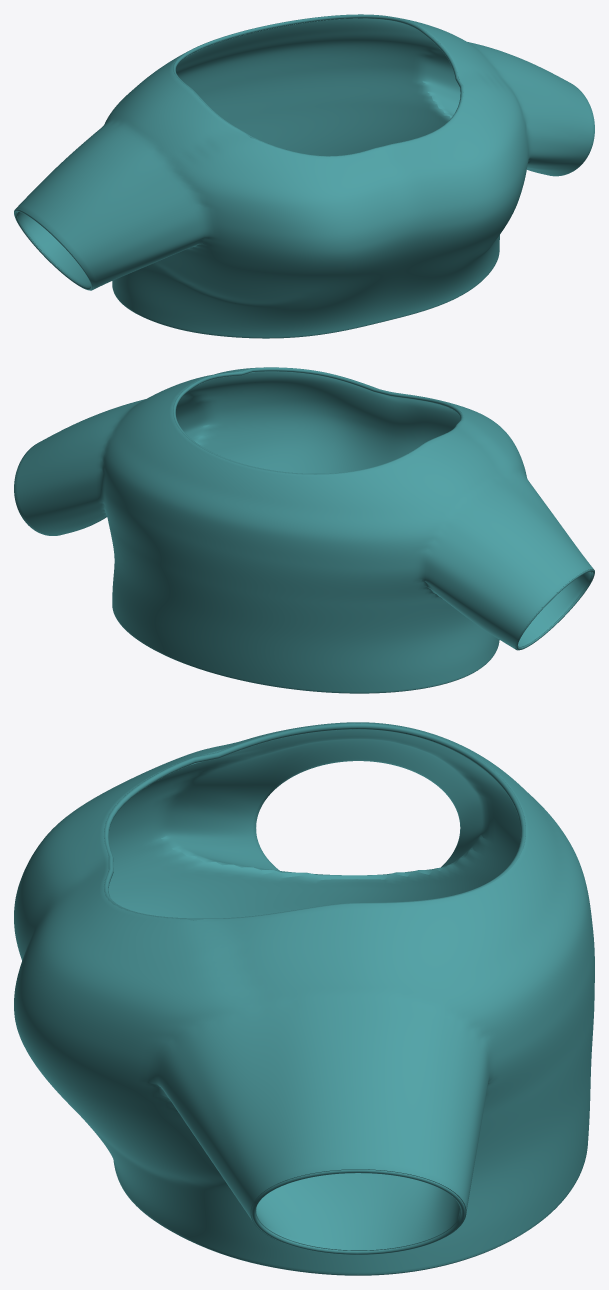
File: Feminine-tshirt-top.glb
3 views of the same model, one above another, from view 1: azimuth 30°, elevation 25°; view 2: azimuth 150°, elevation 25°; view 3: azimuth 270°, elevation 25° (orthographic). The views are drawn at different scales.
Visible parts, largest first — view 1: Clothing / tshirt, Neckline / fitted crew export, Sleeve / soft cuff -1 export; view 2: Clothing / tshirt, Neckline / fitted crew export, Sleeve / soft cuff -1 export; view 3: Clothing / tshirt, Neckline / fitted crew export, Sleeve / soft cuff 1 export.
Part boxes in pixels (x1,y1,x2,y2): Clothing / tshirt: [14, 17, 594, 337]; Neckline / fitted crew export: [173, 14, 463, 156]; Sleeve / soft cuff -1 export: [14, 209, 92, 290]; Clothing / tshirt: [14, 367, 594, 692]; Neckline / fitted crew export: [173, 367, 463, 474]; Sleeve / soft cuff -1 export: [515, 569, 594, 650]; Clothing / tshirt: [14, 722, 594, 1274]; Neckline / fitted crew export: [104, 723, 525, 920]; Sleeve / soft cuff 1 export: [251, 1169, 465, 1254].
Bounding box in the file's own units: 0.9345 × 0.3438 × 0.5531.
